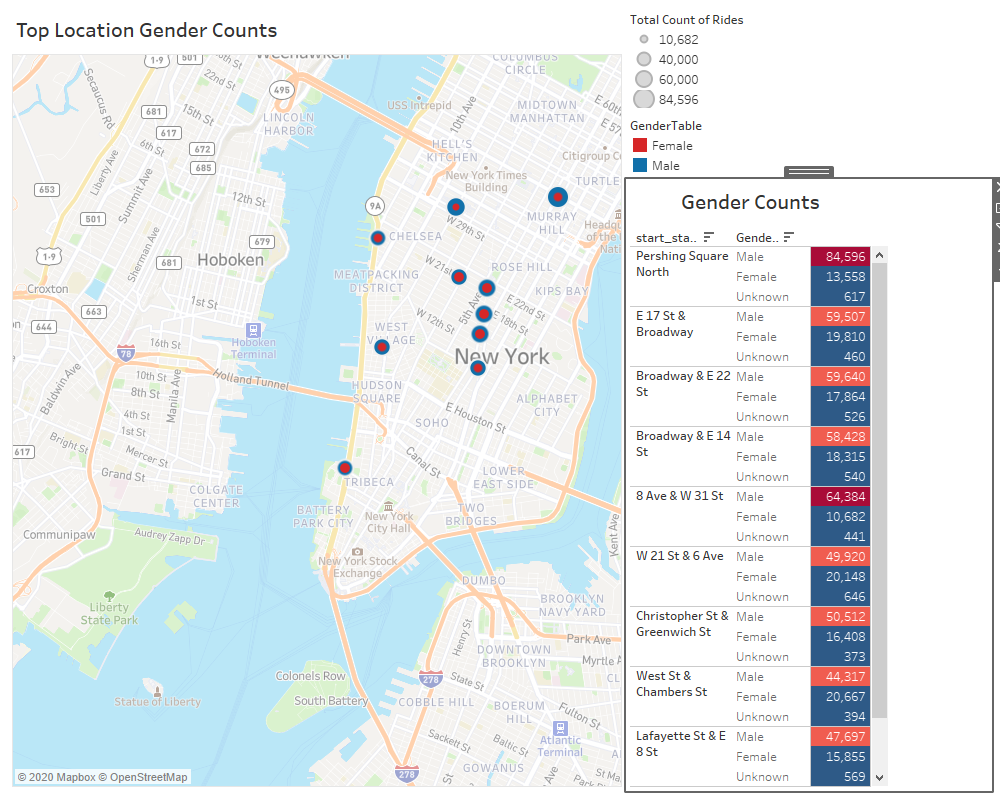

The page's visual inventory and layout, read from the dashboard file:
{"tool":"tableau","page":{"name":"Dashboard 6","canvas":[1000,800],"ordinal":2},"visuals":[{"type":"worksheet","title":"Top10 Gender","mark":"Automatic","rows":["start_station_latitude"],"cols":["start_station_longitude"],"box":[8,8,618,784]},{"type":"legend","title":"Top10 Gender","param":"[federated.1t6whko15jxsg01akueoa0543d59].[sum:Number of Records:qk]","box":[626,8,366,106]},{"type":"legend","title":"Top10 Gender","param":"[federated.1t6whko15jxsg01akueoa0543d59].[none:Calculation_1744018963332456450:n","box":[626,114,366,66]},{"type":"worksheet","title":"Journey Starts Gender Analysis","mark":"Square","rows":["start_station_name","Calculation_1744018963332456450"],"box":[626,180,366,612]}]}

Visuals, with their boxes in screenshot pixels (x1, y1, x2, y2), scaled from the page's 1000x800 canvas onto the 1000x793 screenshot:
"Top10 Gender" worksheet: box(8, 8, 626, 785)
"Top10 Gender" legend: box(626, 8, 992, 113)
"Top10 Gender" legend: box(626, 113, 992, 178)
"Journey Starts Gender Analysis" worksheet (Square marks): box(626, 178, 992, 785)
